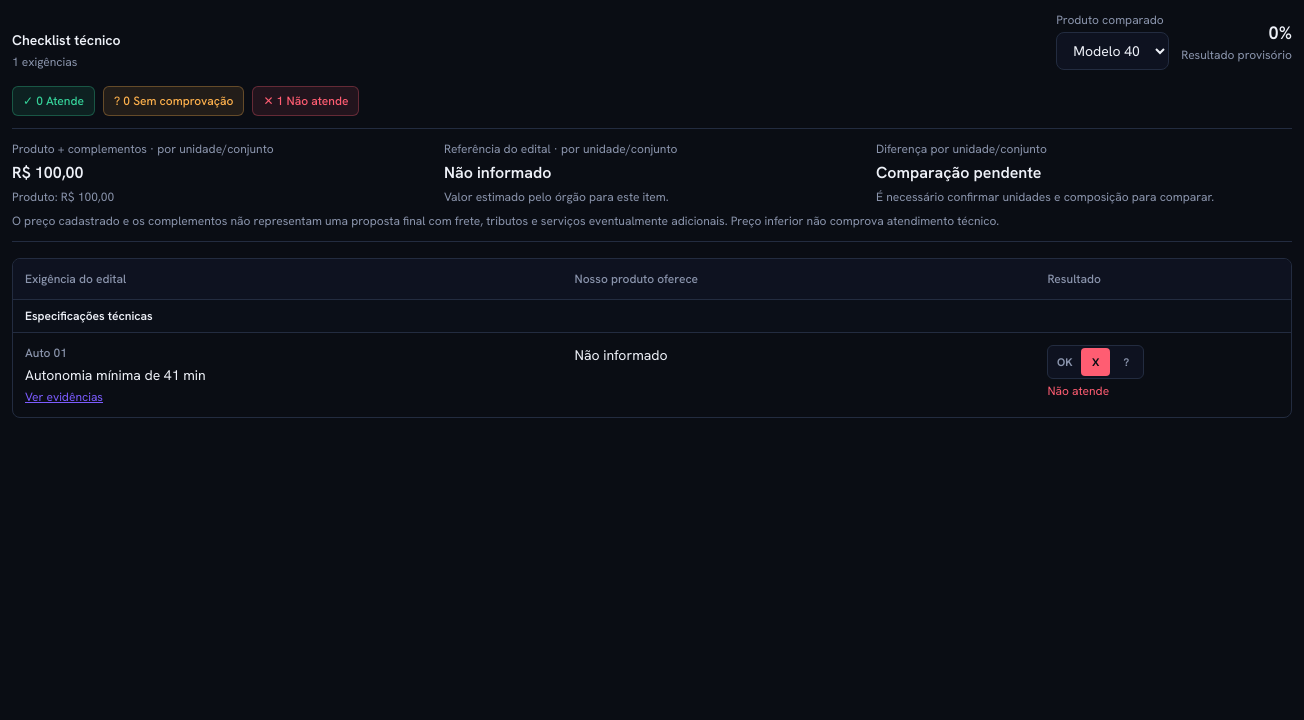
Test case: failed products are not presented as fully compliant and show both sources
This screenshot has width=1304, height=720.
expect the table is shown: met, box 13,259 -> 1291,417
expect the text "Não atende" is shown: met, box 1047,383 -> 1109,399
Click the button "Ver evidências" at (64, 397), box 25,389 -> 103,405
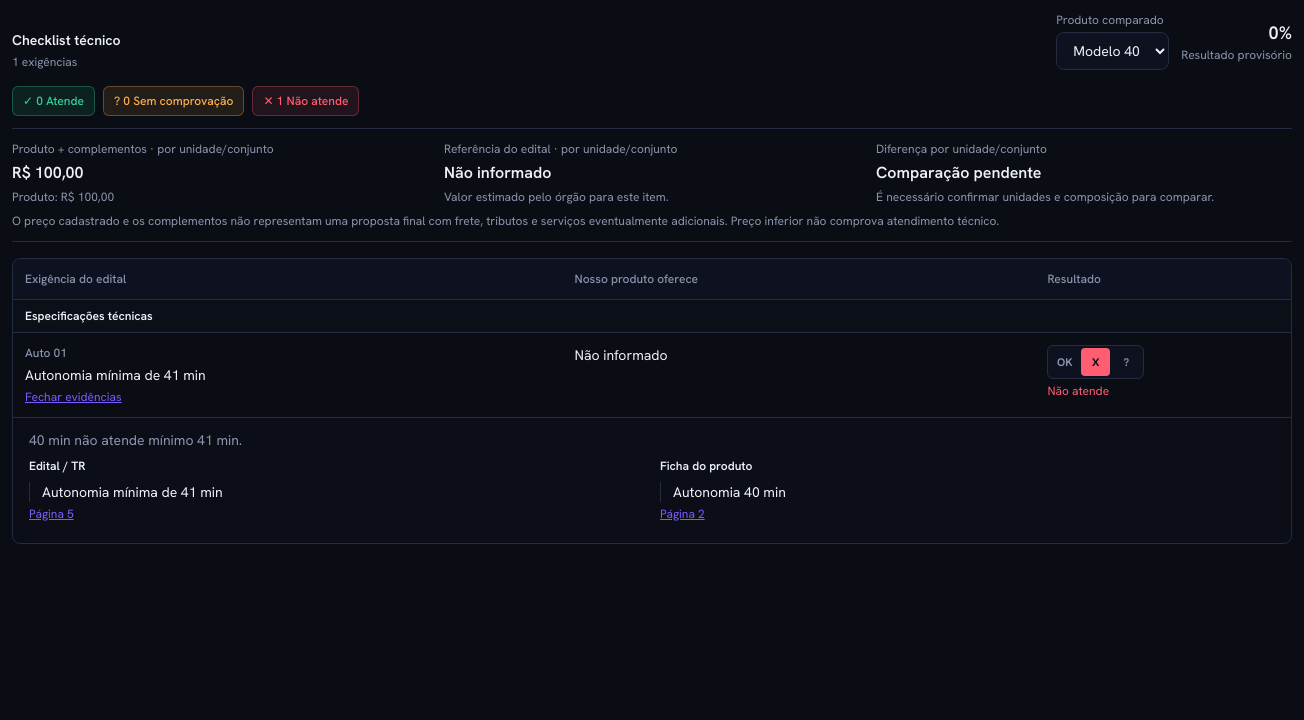
expect the text "40 min não atende mínimo 41 min." is shown: met, box 29,431 -> 242,449
expect the number of links is 2: met, box 29,506 -> 74,522; 660,506 -> 705,522
